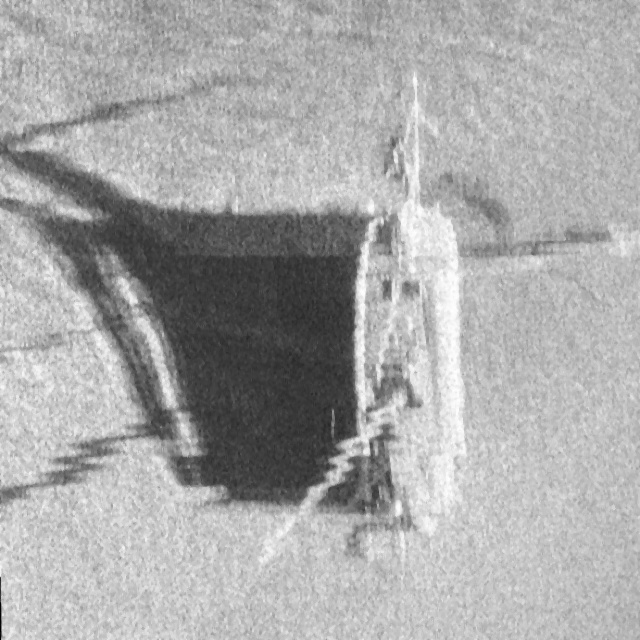Ship: (302, 58, 473, 554)
